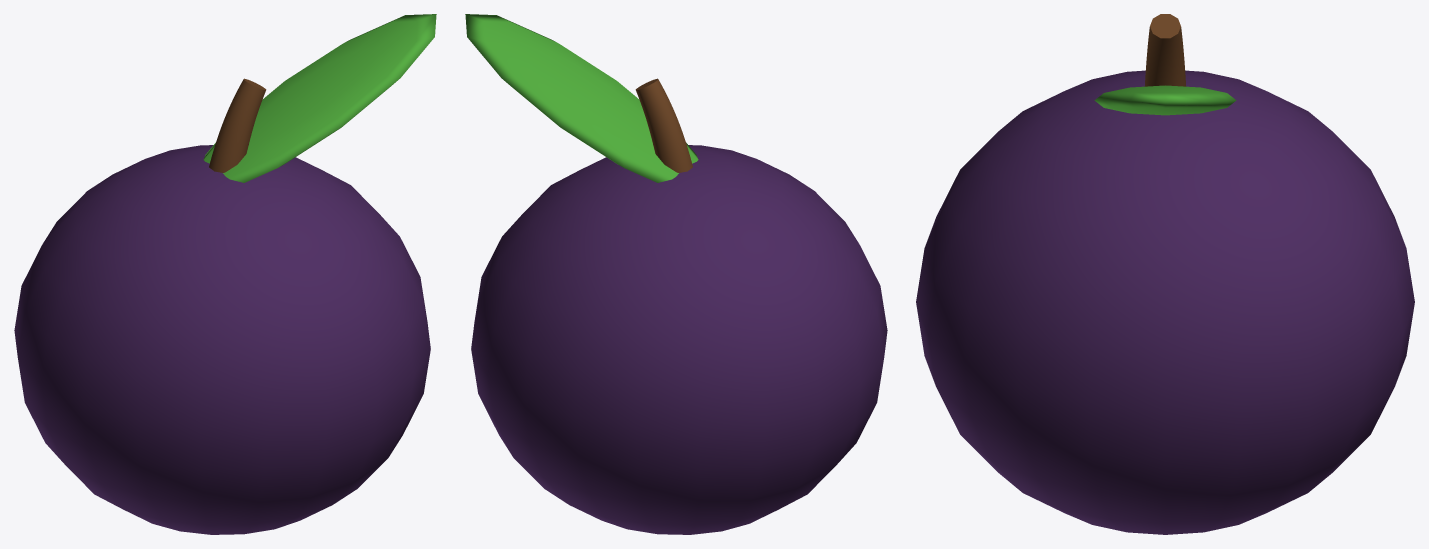
Rendered from ObsidianFig.fbx.
3 renders of one model, left to right at view 1: azimuth 30°, elevation 25°; view 2: azimuth 150°, elevation 25°; view 3: azimuth 270°, elevation 25°, orthographic. The views are drawn at different scales.
Parts seen in each view (by area): view 1: Handle, Leaf, Twig; view 2: Handle, Leaf, Twig; view 3: Handle, Leaf, Twig.
Boxes of the visible parts, box(x1,y1,x2,y2) form: Handle: box(14, 145, 430, 534); Leaf: box(203, 14, 436, 182); Twig: box(209, 78, 266, 172); Handle: box(471, 145, 887, 534); Leaf: box(465, 14, 698, 182); Twig: box(635, 78, 692, 172); Handle: box(916, 70, 1414, 534); Leaf: box(1094, 85, 1236, 115); Twig: box(1144, 14, 1186, 86).
Bounding box in the file's own units: 1.22 × 1.32 × 1.12.
